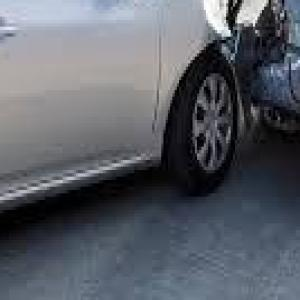negligible: (0, 0, 300, 283)
